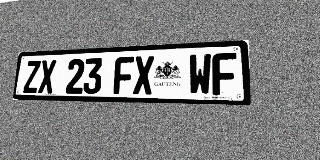2: (66, 58, 85, 94)
3: (83, 58, 102, 94)
F: (212, 52, 237, 95), (113, 56, 134, 94)
W: (188, 53, 211, 95)
X: (133, 56, 154, 94), (38, 60, 56, 93)
Z: (23, 60, 41, 93)
